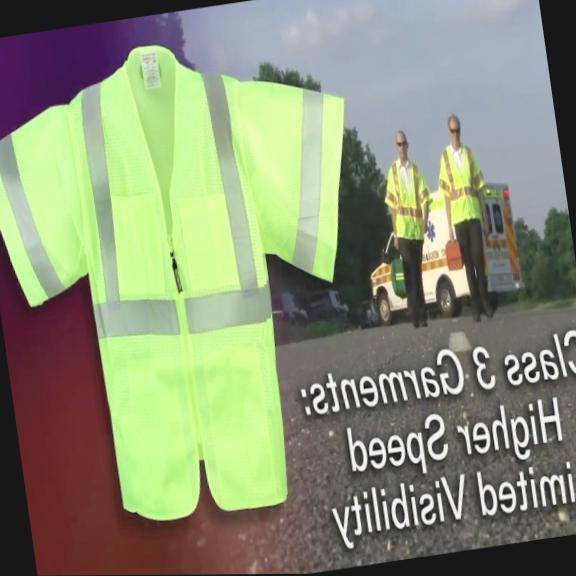safety_vest: (0, 17, 398, 544), (433, 141, 493, 226), (380, 158, 437, 242)
